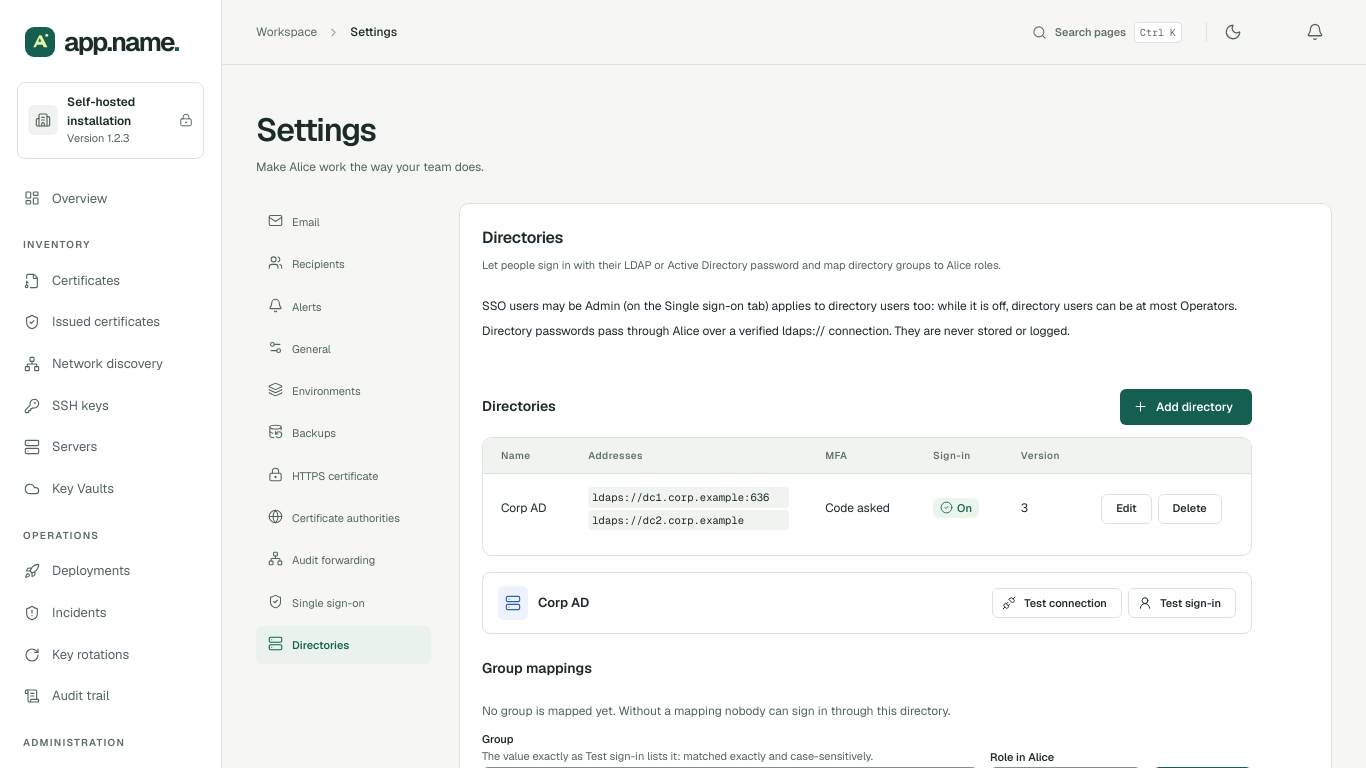
Test case: Directories settings › shows the template rules next to the filter fields
Step 1. Click the button "Add directory" → (1186, 407), box top-left (1120, 389), bottom-right (1252, 425)
(page scrolled)
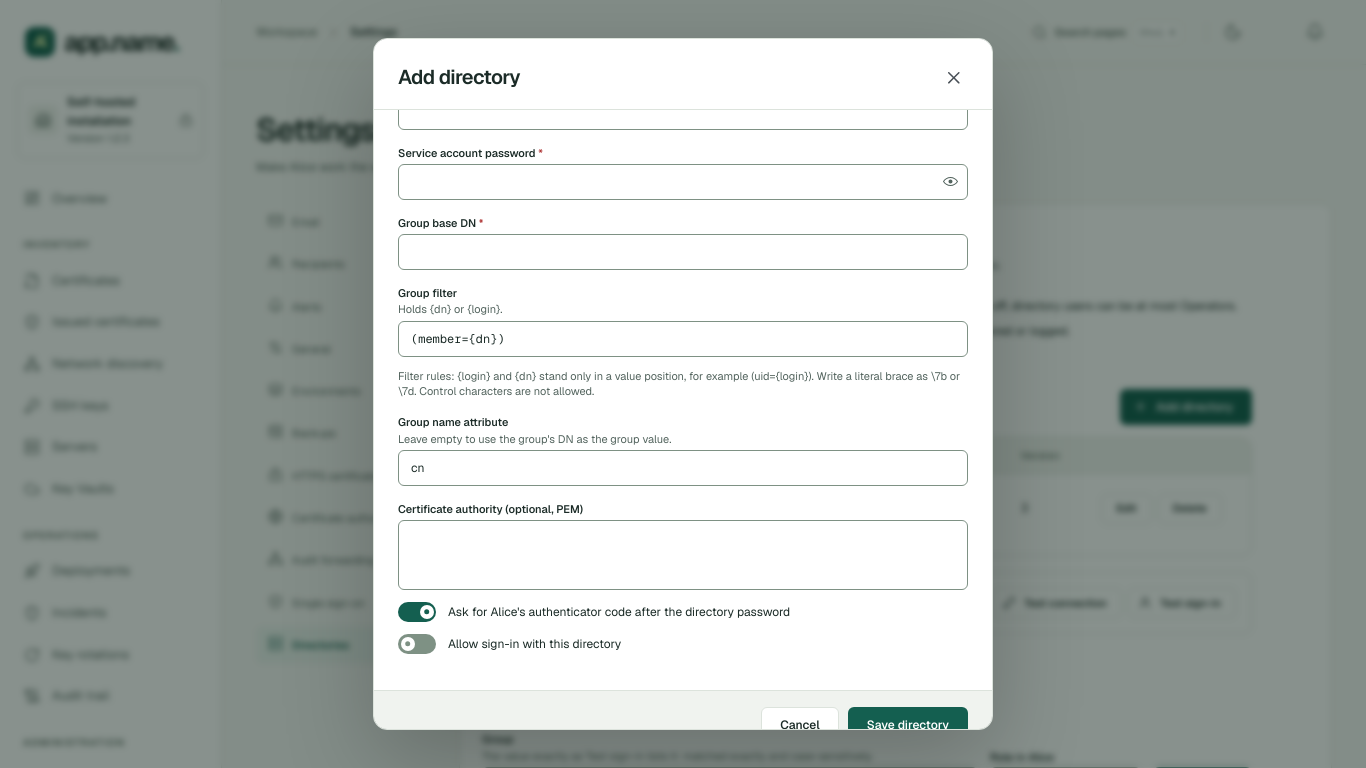
Expected: the text "\\7b or \\7d" is shown, top-left (398, 368), bottom-right (960, 398)
